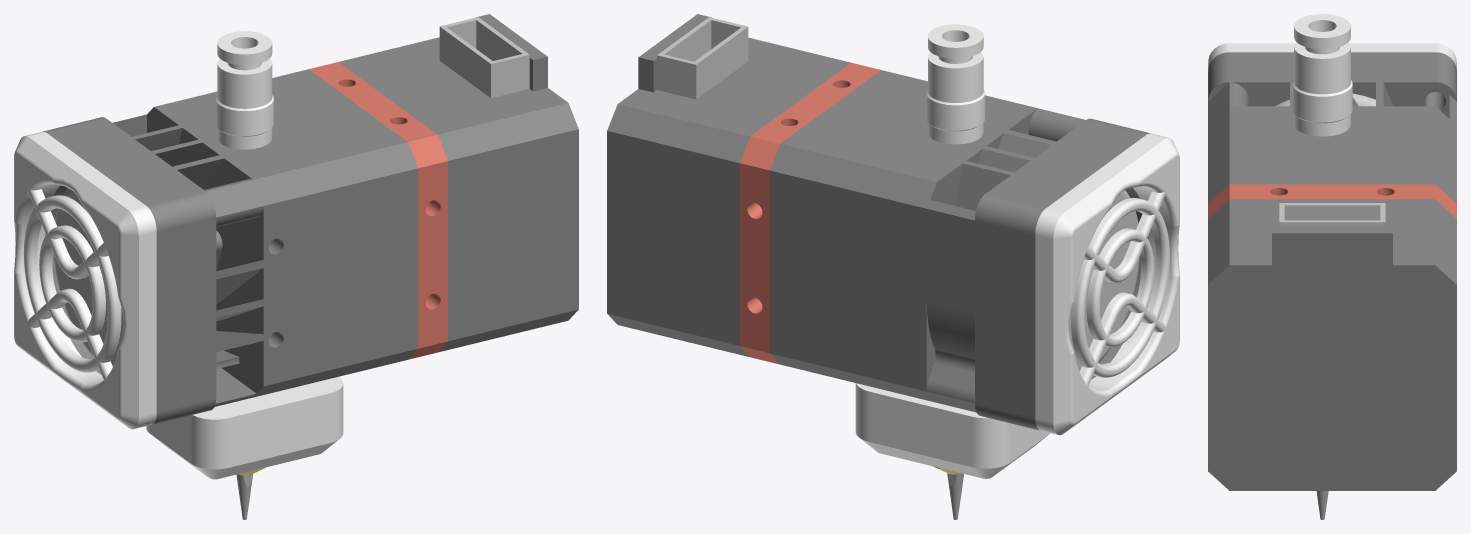
File: aetheris-4.glb
The picture shows the model from 3 angles, left to right: view 1: azimuth 30°, elevation 25°; view 2: azimuth 150°, elevation 25°; view 3: azimuth 270°, elevation 25°; orthographic projection. The views are drawn at different scales.
Visible parts, largest first — view 1: Mécanisme et radiateur, Moteur extrudeur, Grille ventilateur, Corps de ventilateur, Bloc de chauffe, Bande de séparation, Support PTFE, Connecteur JST, Mécanisme ventilateur; view 2: Mécanisme et radiateur, Moteur extrudeur, Grille ventilateur, Corps de ventilateur, Bloc de chauffe, Bande de séparation, Support PTFE, Connecteur JST, Mécanisme ventilateur; view 3: Moteur extrudeur, Mécanisme et radiateur, Corps de ventilateur, Support PTFE, Bande de séparation, Connecteur JST, Grille ventilateur, Mécanisme ventilateur.
Boxes of the visible parts, <box> form: Mécanisme et radiateur: <box>112,69,418,406</box>; Moteur extrudeur: <box>339,14,578,352</box>; Grille ventilateur: <box>14,131,156,429</box>; Corps de ventilateur: <box>43,117,216,424</box>; Bloc de chauffe: <box>146,377,343,479</box>; Bande de séparation: <box>309,62,447,359</box>; Support PTFE: <box>215,31,273,149</box>; Connecteur JST: <box>439,17,529,98</box>; Mécanisme ventilateur: <box>53,188,123,366</box>; Mécanisme et radiateur: <box>770,70,1085,412</box>; Moteur extrudeur: <box>607,14,850,356</box>; Grille ventilateur: <box>1035,133,1179,435</box>; Corps de ventilateur: <box>975,118,1149,430</box>; Bloc de chauffe: <box>855,383,1050,478</box>; Bande de séparation: <box>739,62,880,364</box>; Support PTFE: <box>926,24,985,144</box>; Connecteur JST: <box>657,17,748,99</box>; Mécanisme ventilateur: <box>1068,190,1139,371</box>; Moteur extrudeur: <box>1208,199,1456,490</box>; Mécanisme et radiateur: <box>1208,82,1456,203</box>; Corps de ventilateur: <box>1208,52,1456,118</box>; Support PTFE: <box>1292,14,1352,136</box>; Bande de séparation: <box>1208,184,1456,218</box>; Connecteur JST: <box>1279,203,1385,225</box>; Grille ventilateur: <box>1208,43,1456,70</box>; Mécanisme ventilateur: <box>1275,93,1375,106</box>.
Size of the model in its own units: 0.076 by 0.0766 by 0.035.
